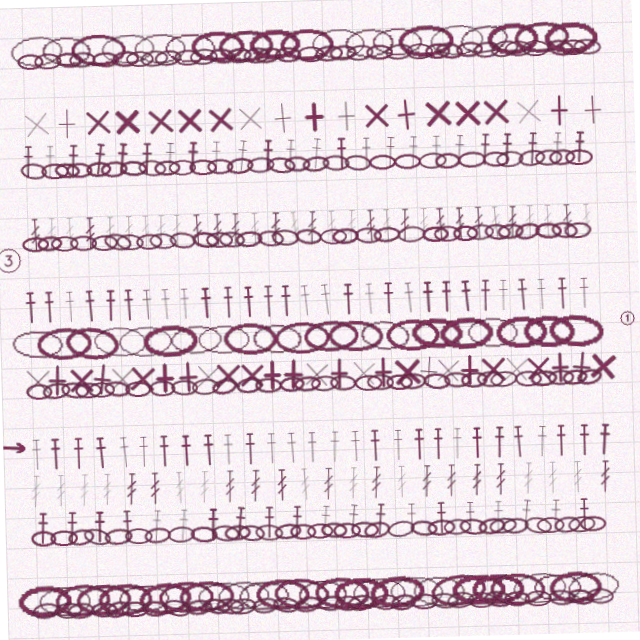chain: (63, 318, 121, 356), (422, 575, 480, 613), (464, 25, 520, 63), (357, 318, 413, 355), (547, 319, 604, 355), (558, 576, 615, 612), (306, 576, 364, 611), (130, 576, 186, 612), (91, 319, 148, 354), (47, 576, 104, 611), (361, 576, 418, 611), (436, 26, 492, 61), (521, 26, 577, 61), (266, 576, 322, 611), (504, 576, 560, 611), (107, 27, 164, 61), (225, 27, 282, 61), (327, 320, 384, 354), (381, 577, 438, 611), (16, 26, 71, 61), (68, 577, 124, 611), (404, 577, 460, 611), (482, 577, 538, 611), (410, 319, 464, 354), (9, 320, 64, 354), (90, 577, 145, 611), (405, 27, 461, 60), (36, 320, 92, 353), (168, 320, 224, 353), (171, 577, 227, 610), (47, 27, 101, 61), (350, 27, 404, 61), (250, 320, 304, 354), (522, 320, 576, 354), (117, 320, 172, 353), (142, 320, 197, 353), (222, 320, 277, 353), (303, 320, 358, 353), (438, 320, 493, 353), (465, 320, 520, 353), (151, 577, 206, 610), (209, 577, 264, 610), (541, 577, 596, 610), (78, 28, 134, 60), (318, 28, 374, 60), (344, 578, 400, 610), (10, 577, 64, 610), (229, 577, 283, 610), (248, 577, 302, 610), (140, 28, 195, 60), (198, 28, 253, 60), (196, 321, 251, 353), (274, 321, 329, 353), (189, 578, 244, 610), (326, 578, 381, 610), (256, 27, 309, 60), (494, 27, 547, 60), (170, 28, 224, 60), (287, 28, 341, 60), (378, 28, 432, 60), (551, 28, 605, 60), (385, 321, 439, 353), (30, 578, 84, 610), (109, 578, 163, 610), (444, 578, 498, 610), (464, 578, 518, 610), (495, 321, 548, 353), (289, 578, 342, 610), (524, 578, 577, 610), (76, 520, 107, 542), (154, 593, 184, 615), (497, 43, 527, 64), (105, 226, 135, 247), (96, 593, 125, 614), (194, 593, 223, 614), (516, 226, 544, 247), (261, 44, 290, 64), (442, 44, 471, 64), (553, 44, 582, 64), (357, 521, 386, 541), (381, 521, 410, 541), (518, 521, 547, 541), (264, 594, 293, 614), (286, 594, 315, 614), (559, 594, 588, 614), (58, 374, 88, 393), (209, 374, 237, 394), (574, 374, 602, 394), (382, 594, 410, 614), (142, 154, 171, 173), (193, 227, 222, 246), (40, 374, 69, 393), (101, 374, 130, 393), (61, 521, 90, 540), (453, 521, 482, 540), (483, 521, 512, 540), (208, 594, 237, 613), (339, 594, 368, 613), (476, 594, 505, 613), (24, 154, 52, 173), (230, 154, 258, 173), (522, 154, 550, 173), (171, 227, 199, 246), (297, 227, 325, 246), (486, 227, 514, 246), (553, 227, 581, 246), (234, 374, 262, 393), (206, 521, 234, 540), (268, 521, 296, 540), (472, 521, 500, 540), (24, 594, 52, 613), (439, 594, 467, 613), (147, 45, 176, 63), (392, 45, 421, 63), (580, 45, 609, 63), (271, 155, 300, 173), (98, 522, 127, 540), (249, 522, 278, 540), (216, 44, 243, 63), (161, 45, 189, 63), (353, 45, 381, 63), (480, 45, 508, 63), (306, 155, 334, 173), (348, 155, 376, 173), (500, 155, 528, 173), (118, 228, 146, 246), (151, 228, 179, 246), (220, 228, 248, 246), (237, 228, 265, 246), (259, 228, 287, 246), (566, 228, 594, 246), (421, 375, 449, 393), (488, 375, 516, 393), (528, 375, 556, 393), (138, 522, 166, 540), (184, 522, 212, 540), (232, 522, 260, 540), (404, 522, 432, 540), (496, 522, 524, 540), (548, 522, 576, 540), (562, 522, 590, 540), (59, 595, 87, 613), (177, 595, 205, 613), (221, 595, 249, 613), (244, 595, 272, 613), (423, 595, 451, 613), (540, 595, 568, 613), (421, 522, 450, 539), (58, 155, 85, 173), (560, 375, 587, 393), (134, 595, 161, 613), (62, 45, 90, 62), (197, 45, 225, 62), (250, 45, 278, 62), (322, 45, 350, 62), (336, 45, 364, 62), (104, 155, 132, 172), (251, 155, 279, 172), (326, 155, 354, 172), (423, 155, 451, 172), (462, 155, 490, 172), (539, 155, 567, 172), (375, 228, 403, 245), (400, 228, 428, 245), (499, 228, 527, 245), (190, 375, 218, 392), (309, 375, 337, 392), (218, 522, 246, 539), (345, 522, 373, 539), (76, 45, 103, 62), (119, 45, 146, 62), (233, 45, 260, 62), (463, 45, 490, 62), (124, 155, 151, 172), (288, 155, 315, 172), (553, 155, 580, 172), (274, 228, 301, 245), (334, 228, 361, 245), (357, 228, 384, 245), (469, 228, 496, 245), (537, 228, 564, 245), (277, 375, 304, 392), (292, 375, 319, 392), (328, 375, 355, 392), (365, 375, 392, 392), (398, 375, 425, 392), (442, 375, 469, 392), (459, 375, 486, 392), (475, 375, 502, 392), (162, 522, 189, 539), (315, 522, 342, 539), (438, 522, 465, 539), (47, 595, 74, 612), (310, 595, 337, 612), (579, 595, 606, 612), (41, 46, 69, 62), (133, 46, 161, 62), (181, 46, 209, 62), (304, 46, 332, 62), (529, 46, 557, 62), (45, 156, 73, 172), (193, 156, 221, 172), (569, 156, 597, 172), (53, 229, 81, 245), (353, 376, 381, 392), (44, 523, 72, 539), (119, 523, 147, 539), (327, 523, 355, 539), (531, 523, 559, 539), (113, 596, 141, 612), (460, 596, 488, 612), (90, 155, 116, 172), (39, 228, 65, 245), (24, 46, 51, 62), (99, 46, 126, 62), (282, 46, 309, 62), (373, 46, 400, 62), (413, 46, 440, 62), (512, 46, 539, 62), (567, 46, 594, 62), (70, 156, 97, 172), (158, 156, 185, 172), (173, 156, 200, 172), (211, 156, 238, 172), (373, 156, 400, 172), (398, 156, 425, 172), (487, 156, 514, 172), (24, 229, 51, 245), (72, 229, 99, 245), (93, 229, 120, 245), (138, 229, 165, 245), (208, 229, 235, 245), (322, 229, 349, 245), (424, 229, 451, 245), (436, 229, 463, 245), (24, 376, 51, 392), (73, 376, 100, 392), (86, 376, 113, 392), (123, 376, 150, 392), (147, 376, 174, 392), (169, 376, 196, 392), (253, 376, 280, 392), (384, 376, 411, 392), (513, 376, 540, 392), (546, 376, 573, 392), (284, 523, 311, 539), (301, 523, 328, 539), (574, 523, 601, 539), (83, 596, 110, 612), (327, 596, 354, 612), (365, 596, 392, 612), (403, 596, 430, 612), (496, 596, 523, 612), (517, 596, 544, 612), (432, 46, 458, 62), (439, 156, 465, 172), (455, 229, 481, 245), (25, 523, 51, 539)
half_double: (96, 137, 112, 170), (119, 137, 134, 170), (239, 137, 254, 170), (313, 137, 328, 170), (319, 283, 334, 316), (227, 504, 242, 537), (340, 504, 355, 537), (513, 504, 528, 537), (190, 138, 204, 170), (288, 138, 302, 170), (457, 138, 471, 170), (530, 138, 544, 170), (555, 138, 569, 170), (577, 138, 591, 170), (84, 284, 98, 316), (299, 284, 313, 316), (403, 284, 417, 316), (460, 284, 474, 316), (91, 431, 105, 463), (114, 431, 128, 463), (594, 431, 608, 463), (144, 505, 158, 537), (171, 505, 185, 537), (313, 505, 327, 537), (368, 505, 382, 537), (26, 138, 39, 170), (48, 138, 61, 170), (71, 138, 84, 170), (145, 138, 158, 170), (168, 138, 181, 170), (214, 138, 227, 170), (266, 138, 279, 170), (388, 138, 401, 170), (411, 138, 424, 170), (483, 138, 496, 170), (505, 138, 518, 170), (25, 284, 38, 316), (64, 284, 77, 316), (123, 284, 136, 316), (141, 284, 154, 316), (160, 284, 173, 316), (179, 284, 192, 316), (200, 284, 213, 316), (243, 284, 256, 316), (280, 284, 293, 316), (364, 284, 377, 316), (422, 284, 435, 316), (517, 284, 530, 316), (199, 431, 212, 463), (282, 431, 295, 463), (325, 431, 338, 463), (509, 431, 522, 463), (532, 431, 545, 463), (31, 505, 44, 537), (60, 505, 73, 537), (201, 505, 214, 537), (285, 505, 298, 537), (544, 505, 557, 537), (340, 138, 352, 170), (365, 138, 377, 170), (435, 138, 447, 170), (44, 284, 56, 316), (105, 284, 117, 316), (223, 284, 235, 316), (263, 284, 275, 316), (343, 284, 355, 316), (383, 284, 395, 316), (441, 284, 453, 316), (480, 284, 492, 316), (498, 284, 510, 316), (536, 284, 548, 316), (557, 284, 569, 316), (579, 284, 591, 316), (27, 431, 39, 463), (46, 431, 58, 463), (69, 431, 81, 463), (134, 431, 146, 463), (155, 431, 167, 463), (177, 431, 189, 463), (219, 431, 231, 463), (241, 431, 253, 463), (262, 431, 274, 463), (303, 431, 315, 463), (346, 431, 358, 463), (366, 431, 378, 463), (389, 431, 401, 463), (410, 431, 422, 463), (429, 431, 441, 463), (448, 431, 460, 463), (468, 431, 480, 463), (490, 431, 502, 463), (552, 431, 564, 463), (575, 431, 587, 463), (88, 505, 100, 537), (116, 505, 128, 537), (258, 505, 270, 537), (400, 505, 412, 537), (430, 505, 442, 537), (459, 505, 471, 537), (487, 505, 499, 537), (573, 505, 585, 537)
noise: (0, 238, 24, 266), (618, 317, 636, 335), (0, 434, 24, 445)
single: (83, 356, 118, 391), (584, 356, 619, 391), (25, 100, 59, 134), (149, 100, 183, 134), (209, 100, 243, 134), (271, 100, 305, 134), (395, 100, 429, 134), (517, 100, 551, 134), (124, 357, 158, 391), (298, 357, 332, 391), (345, 357, 379, 391), (410, 357, 444, 391), (498, 357, 532, 391), (563, 357, 597, 391), (87, 100, 120, 133), (116, 100, 149, 133), (239, 100, 272, 133), (427, 100, 460, 133), (485, 100, 518, 133), (39, 357, 72, 390), (104, 357, 137, 390), (170, 357, 203, 390), (190, 357, 223, 390), (210, 357, 243, 390), (234, 357, 267, 390), (275, 357, 308, 390), (430, 357, 463, 390), (56, 101, 88, 133), (179, 101, 211, 133), (304, 101, 336, 133), (336, 101, 368, 133), (366, 101, 398, 133), (457, 101, 489, 133), (549, 101, 581, 133), (582, 101, 614, 133), (20, 358, 52, 390), (64, 358, 96, 390), (147, 358, 179, 390), (255, 358, 287, 390), (322, 358, 354, 390), (366, 358, 398, 390), (390, 358, 422, 390), (452, 358, 484, 390), (476, 358, 508, 390), (521, 358, 553, 390), (543, 358, 575, 390)
treble: (291, 211, 304, 243), (492, 211, 505, 243), (25, 468, 38, 500), (32, 211, 44, 243), (48, 211, 60, 243), (194, 211, 206, 243), (272, 211, 284, 243), (348, 211, 360, 243), (437, 211, 449, 243), (564, 211, 576, 243), (74, 468, 86, 500), (121, 468, 133, 500), (194, 468, 206, 500), (245, 468, 257, 500), (295, 468, 307, 500), (318, 468, 330, 500), (343, 468, 355, 500), (366, 468, 378, 500), (441, 468, 453, 500), (518, 468, 530, 500), (595, 468, 607, 500), (67, 211, 78, 243), (87, 211, 98, 243), (107, 211, 118, 243), (126, 211, 137, 243), (158, 211, 169, 243), (174, 211, 185, 243), (252, 211, 263, 243), (309, 211, 320, 243), (329, 211, 340, 243), (368, 211, 379, 243), (384, 211, 395, 243), (402, 211, 413, 243), (421, 211, 432, 243), (457, 211, 468, 243), (476, 211, 487, 243), (527, 211, 538, 243), (545, 211, 556, 243), (584, 211, 595, 243), (51, 468, 62, 500), (97, 468, 108, 500), (145, 468, 156, 500), (170, 468, 181, 500), (220, 468, 231, 500), (272, 468, 283, 500), (392, 468, 403, 500), (417, 468, 428, 500), (467, 468, 478, 500), (491, 468, 502, 500), (543, 468, 554, 500), (568, 468, 579, 500), (143, 211, 153, 243), (215, 211, 225, 243), (233, 211, 243, 243), (510, 211, 520, 243)
